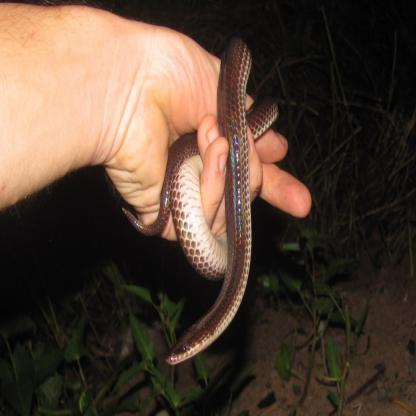Snake: (162, 25, 284, 373)
